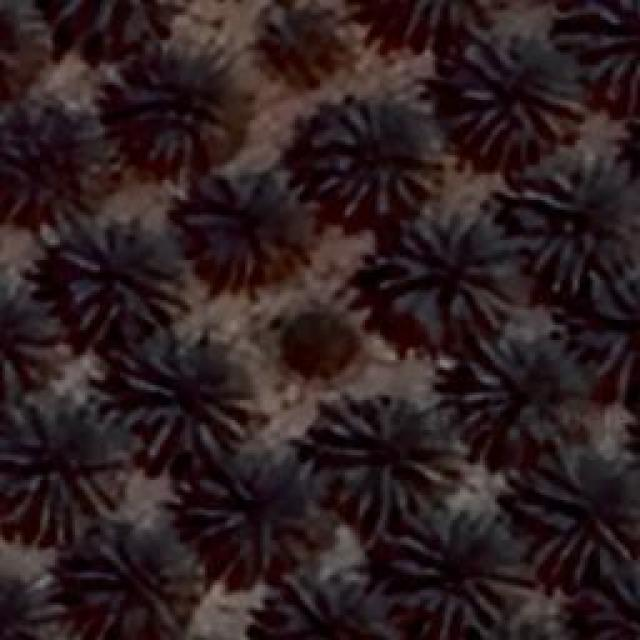PalmTree: (318, 398, 462, 520), (0, 402, 125, 540), (120, 330, 252, 460), (392, 504, 518, 638), (505, 160, 630, 295), (452, 30, 586, 150), (187, 450, 315, 572), (60, 215, 188, 335), (510, 442, 630, 570), (22, 41, 298, 96), (380, 210, 512, 322), (315, 98, 443, 212), (170, 174, 302, 284), (460, 332, 578, 450), (114, 50, 236, 160), (78, 530, 200, 635), (0, 110, 100, 208), (258, 575, 392, 640), (562, 1, 640, 104), (565, 286, 640, 389), (62, 0, 206, 50), (0, 276, 56, 395), (0, 276, 56, 394), (368, 0, 484, 50), (0, 562, 70, 640), (282, 308, 354, 378), (584, 568, 638, 638), (456, 614, 580, 640), (454, 623, 584, 640)
